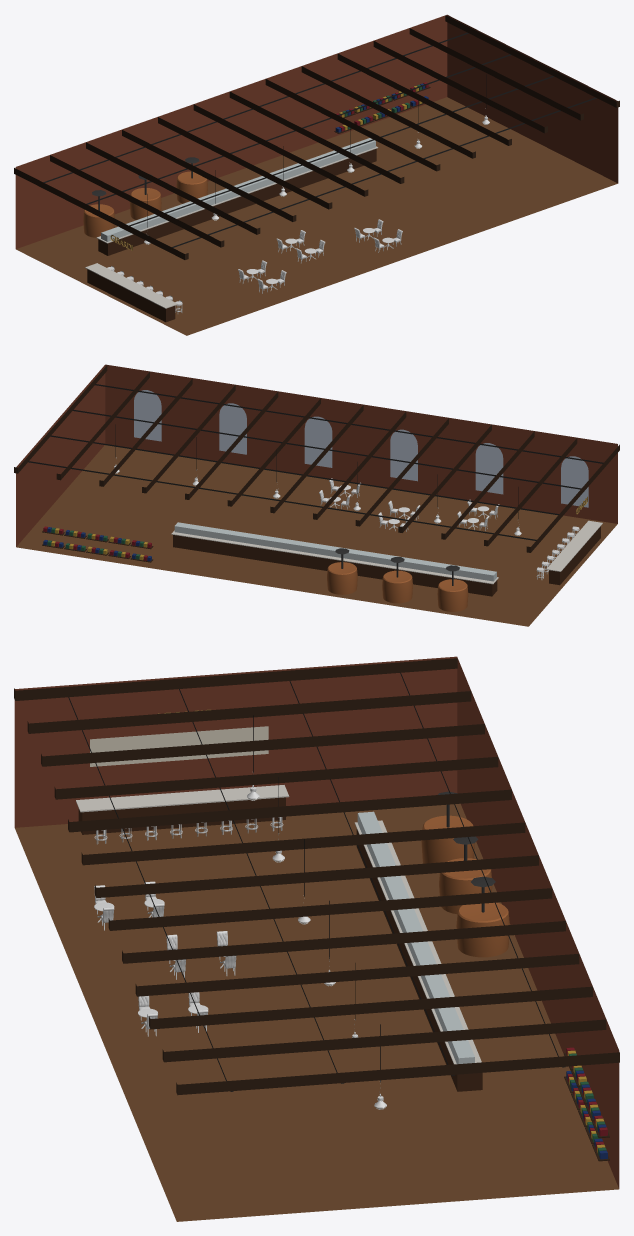
File: ghirardelli_int.glb
3 views of the same model, one above another, from view 1: azimuth 30°, elevation 25°; view 2: azimuth 150°, elevation 25°; view 3: azimuth 270°, elevation 25° (orthographic). The views are drawn at different scales.
Parts seen in each view (by area): view 1: I_x_wood_floor, I_x_brick_old, I_x_wood_dark, I_x_veneer, I_metal, I_glassI, I_x_bronze, I_x_marble_white, I_p_dining_chair_02__0, I_d_paint, I_p_round_wooden_table_01__0; view 2: I_x_wood_floor, I_x_brick_old, I_x_wood_dark, I_sky, I_metal, I_x_veneer, I_glassI, I_x_bronze, I_x_marble_white, I_d_paint, I_p_dining_chair_02__0, I_p_round_wooden_table_01__0 (+1 smaller); view 3: I_x_wood_floor, I_x_wood_dark, I_x_brick_old, I_x_bronze, I_x_veneer, I_x_marble_white, I_glassI, I_screen, I_metal, I_p_dining_chair_02__0, I_d_paint, I_p_bar_chair_round_01__0.
Boxes of the visible parts, bbox=[...] form: I_x_wood_floor: bbox=[16, 97, 617, 335]; I_x_brick_old: bbox=[15, 14, 618, 248]; I_x_wood_dark: bbox=[14, 15, 619, 259]; I_x_veneer: bbox=[87, 148, 376, 322]; I_metal: bbox=[43, 32, 596, 247]; I_glassI: bbox=[101, 138, 375, 241]; I_x_bronze: bbox=[83, 171, 207, 237]; I_x_marble_white: bbox=[85, 146, 378, 308]; I_p_dining_chair_02__0: bbox=[238, 219, 402, 293]; I_d_paint: bbox=[335, 82, 428, 132]; I_p_round_wooden_table_01__0: bbox=[246, 228, 394, 290]; I_x_wood_floor: bbox=[16, 445, 617, 626]; I_x_brick_old: bbox=[16, 364, 617, 546]; I_x_wood_dark: bbox=[14, 365, 619, 562]; I_sky: bbox=[134, 390, 588, 507]; I_metal: bbox=[28, 384, 603, 585]; I_x_veneer: bbox=[173, 526, 600, 596]; I_glassI: bbox=[174, 522, 496, 581]; I_x_bronze: bbox=[327, 562, 468, 611]; I_x_marble_white: bbox=[171, 520, 602, 584]; I_d_paint: bbox=[43, 526, 151, 561]; I_p_dining_chair_02__0: bbox=[319, 478, 499, 531]; I_p_round_wooden_table_01__0: bbox=[329, 485, 489, 530]; I_x_wood_floor: bbox=[15, 803, 618, 1221]; I_x_wood_dark: bbox=[14, 658, 619, 1161]; I_x_brick_old: bbox=[14, 656, 619, 1188]; I_x_bronze: bbox=[421, 815, 509, 957]; I_x_veneer: bbox=[78, 797, 482, 1091]; I_x_marble_white: bbox=[76, 785, 481, 1064]; I_glassI: bbox=[357, 811, 474, 1064]; I_screen: bbox=[90, 726, 268, 766]; I_metal: bbox=[68, 673, 565, 1091]; I_p_dining_chair_02__0: bbox=[94, 881, 236, 1036]; I_d_paint: bbox=[566, 1047, 607, 1159]; I_p_bar_chair_round_01__0: bbox=[94, 817, 283, 844].
Size of the model in its own units: 39.86 by 6 by 23.75.
